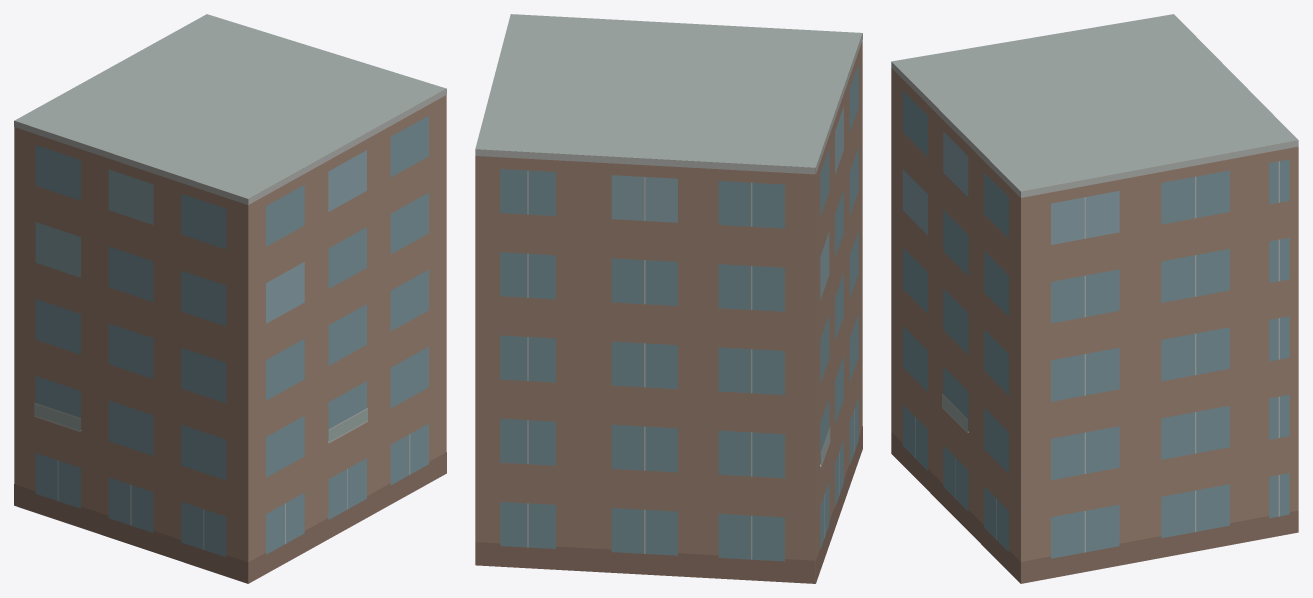
The model's file is survey-upis-32859589.glb.
3 renders of one model, left to right at view 1: azimuth 30°, elevation 25°; view 2: azimuth 150°, elevation 25°; view 3: azimuth 270°, elevation 25°, orthographic. The views are drawn at different scales.
Parts seen in each view (by area): view 1: survey-upis-32859589.tmp; view 2: survey-upis-32859589.tmp; view 3: survey-upis-32859589.tmp.
Boxes of the visible parts, x1=… form: survey-upis-32859589.tmp: x1=14, y1=14, x2=446, y2=583; survey-upis-32859589.tmp: x1=475, y1=14, x2=862, y2=583; survey-upis-32859589.tmp: x1=891, y1=14, x2=1298, y2=583.
Bounding box in the file's own units: 14.68 × 15.1 × 14.22.
